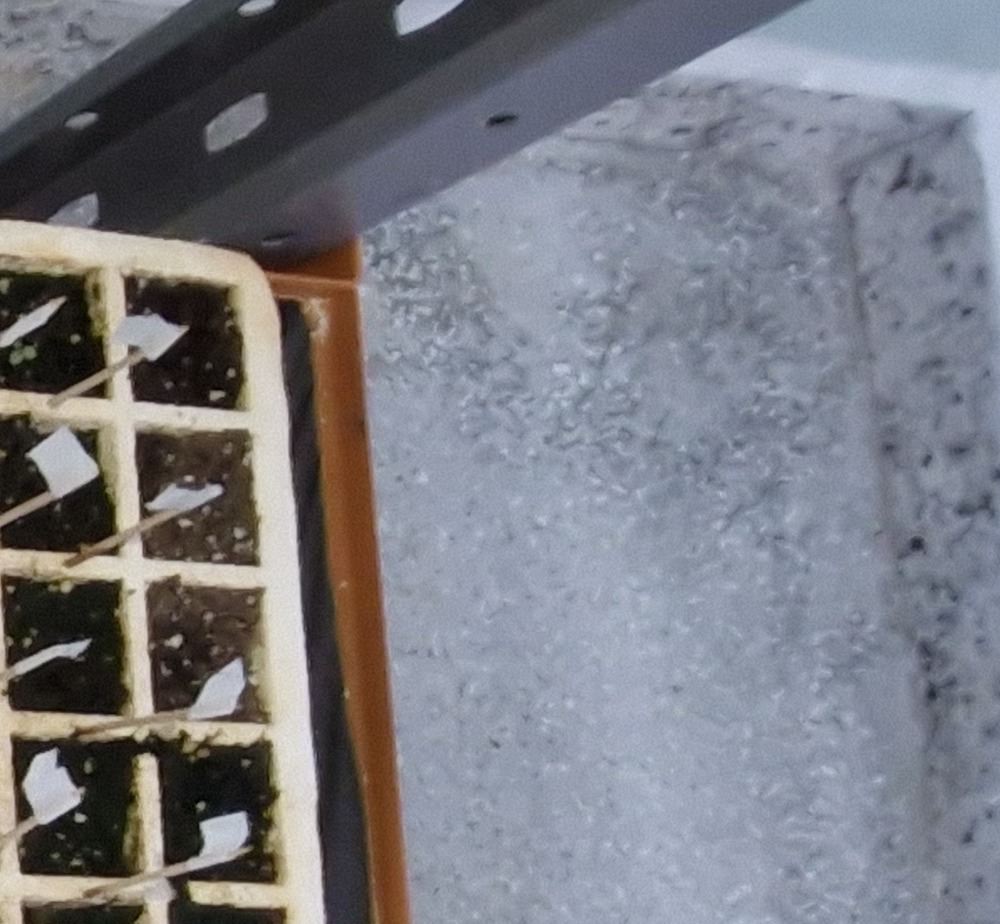Folha: (8, 350, 25, 365), (21, 345, 36, 360)
Germinacao: (9, 346, 37, 365)
